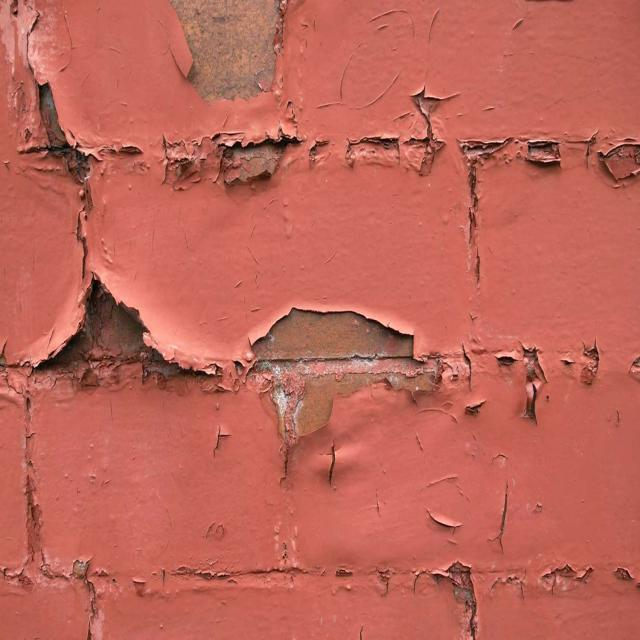peeling: (30, 78, 634, 188), (236, 293, 448, 449), (32, 267, 173, 379), (151, 4, 294, 106), (435, 548, 482, 634)
